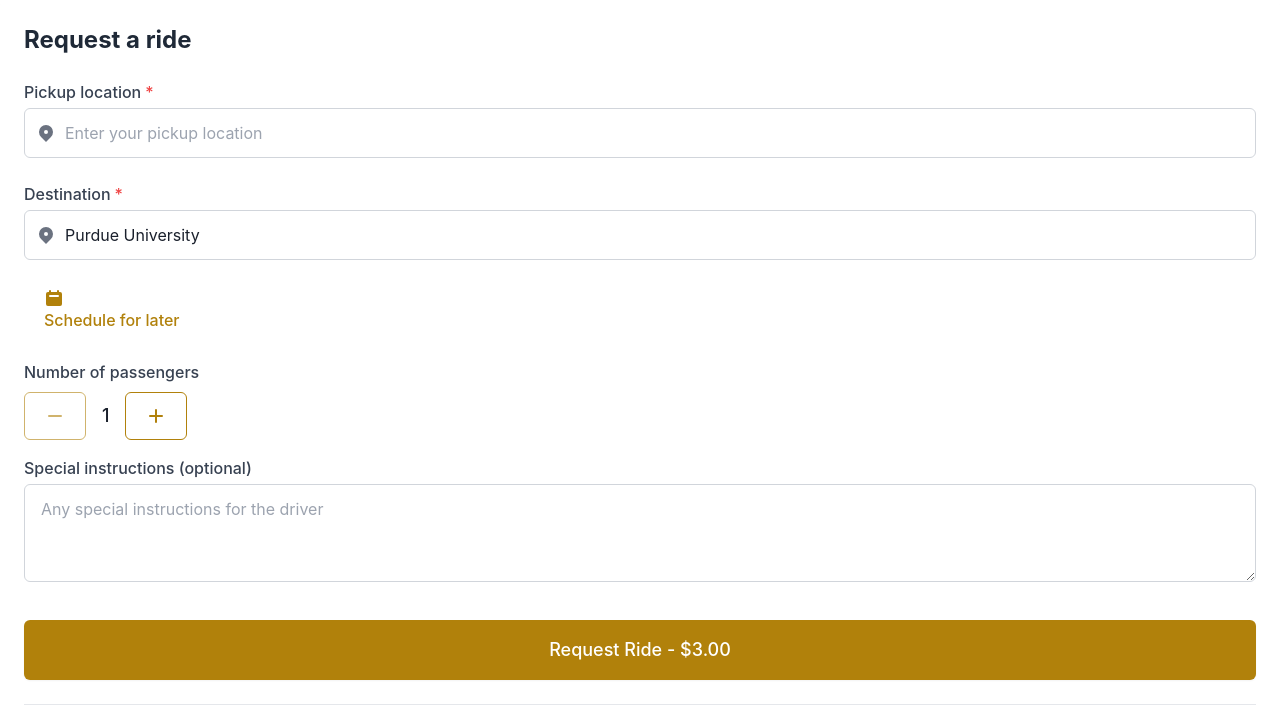
Test: RideRequestForm › submits the form and shows confirmation
Fill out the form
Type "Chauncey Hill" into the field labelled "Pickup location*". click: [640, 133]
box: [24,108,1256,158]
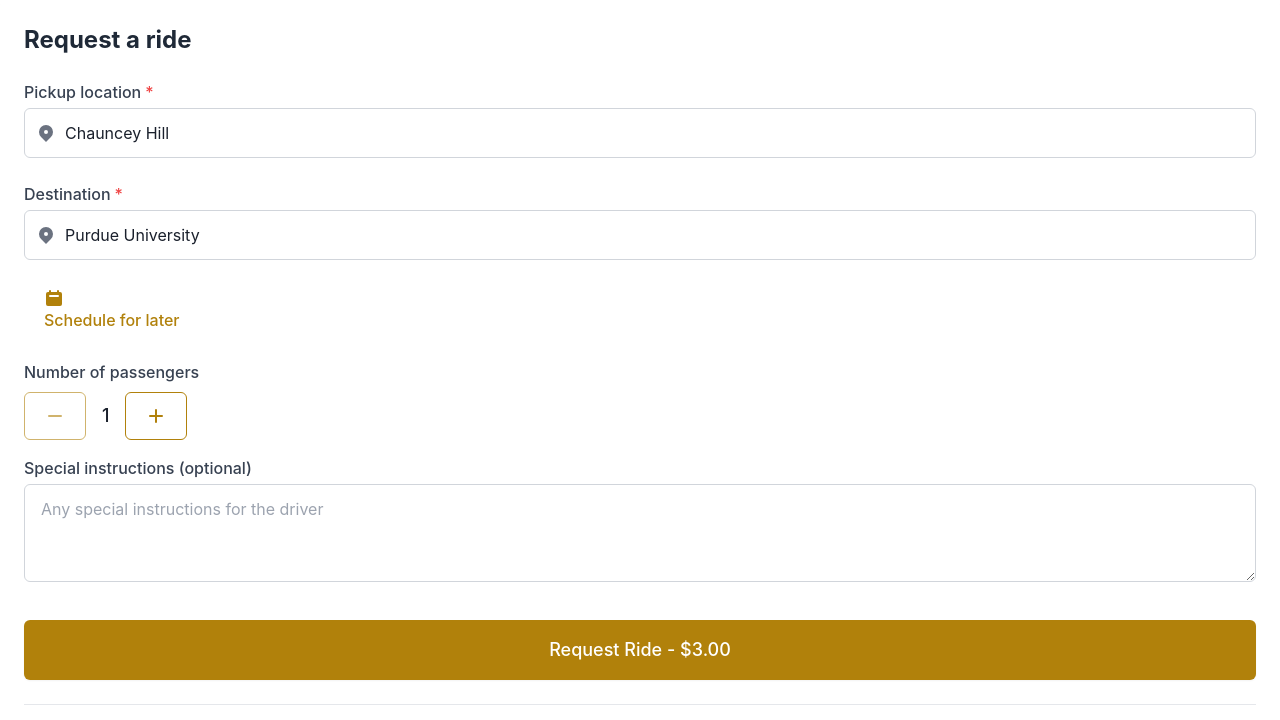
Submit the form
Click the button "Request Ride - $3.00". click: [640, 650]
box: [24,620,1256,680]
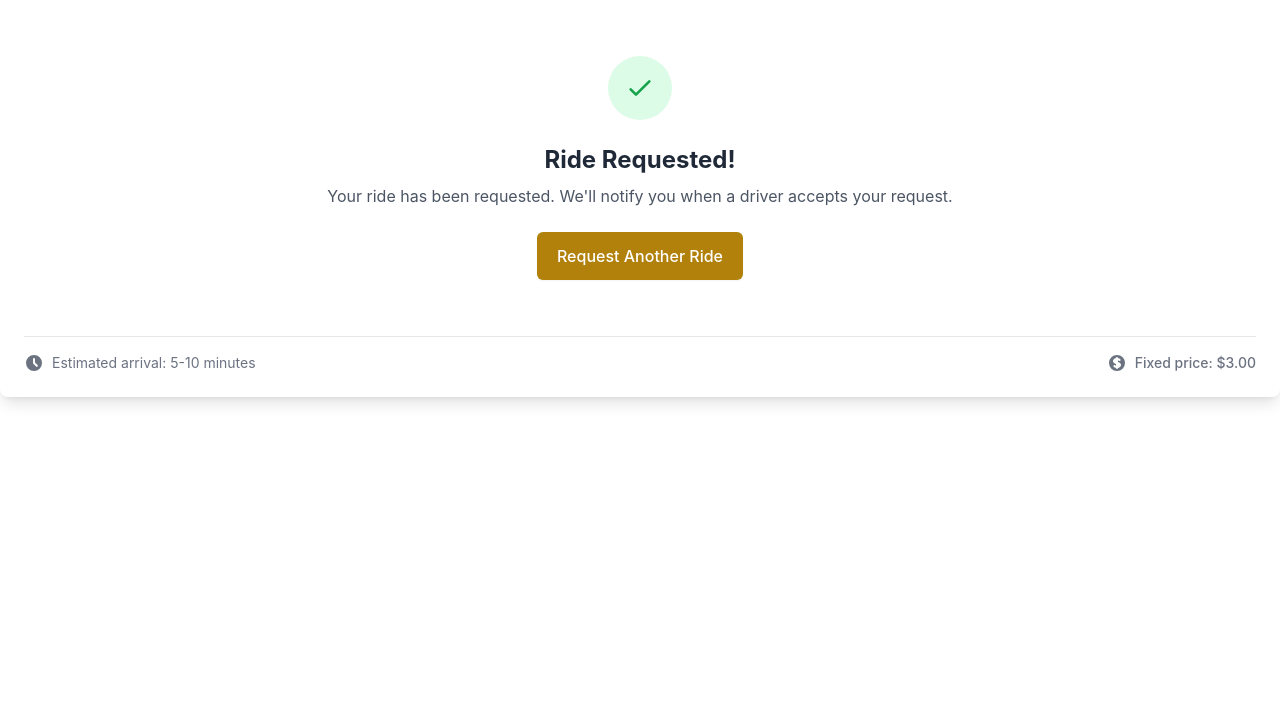
Now the heading "Ride Requested!" is shown, box [544,145,736,174]
